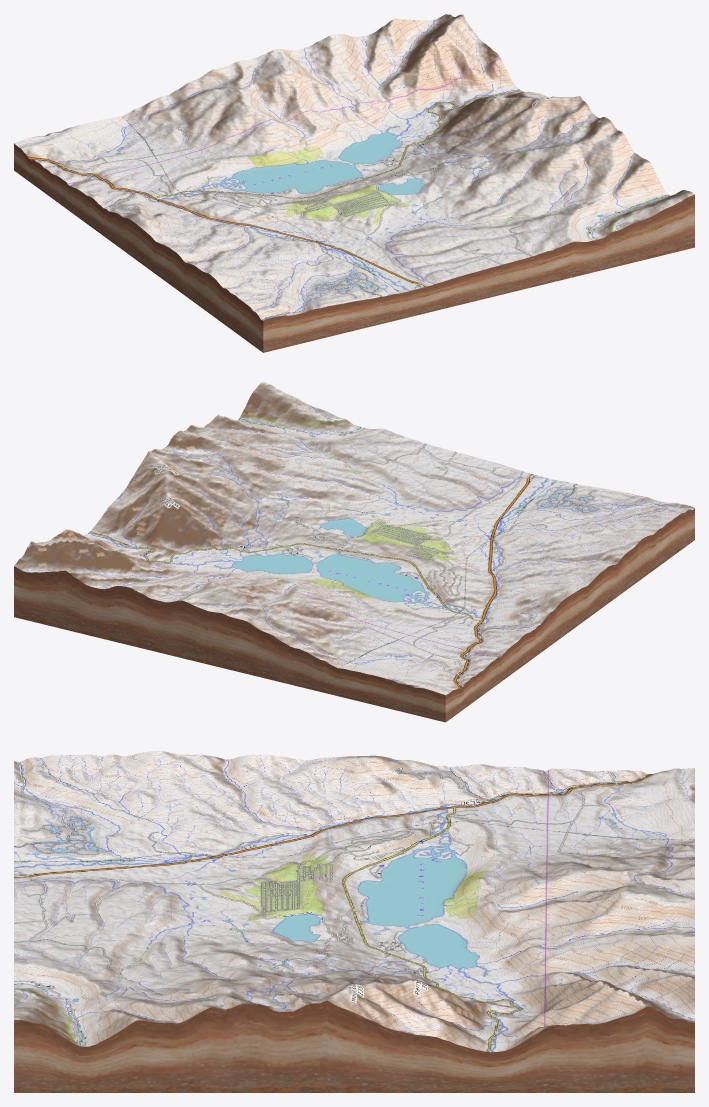
The model's file is 3D-Map.glb.
3 renders of one model, top to bottom at view 1: azimuth 30°, elevation 25°; view 2: azimuth 150°, elevation 25°; view 3: azimuth 270°, elevation 25°, orthographic. The views are drawn at different scales.
Parts seen in each view (by area): view 1: ground, mapEdges; view 2: ground, mapEdges; view 3: ground, mapEdges.
Boxes of the visible parts, bbox=[...] form: ground: bbox=[14, 14, 694, 320]; mapEdges: bbox=[14, 143, 694, 352]; ground: bbox=[14, 381, 694, 695]; mapEdges: bbox=[14, 508, 694, 722]; ground: bbox=[14, 751, 694, 1052]; mapEdges: bbox=[14, 1000, 694, 1092].
Bounding box in the file's own units: 100 × 15 × 100.
Materials: 3 (2 with a texture image).
